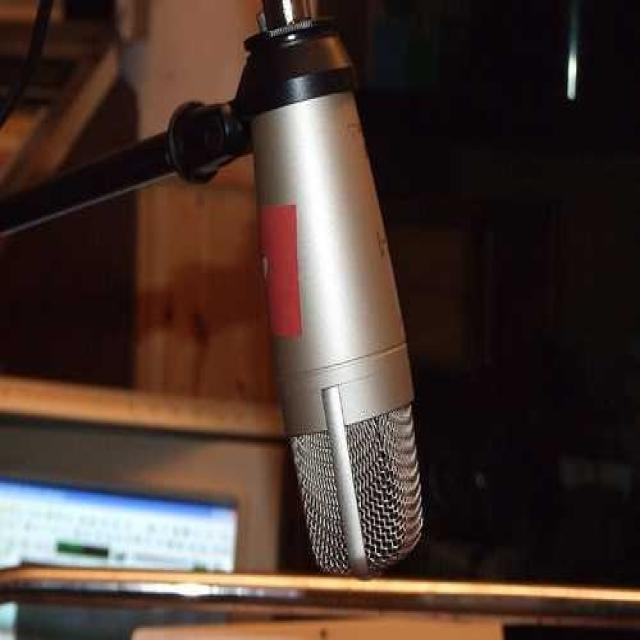microphone: (242, 11, 426, 573)
